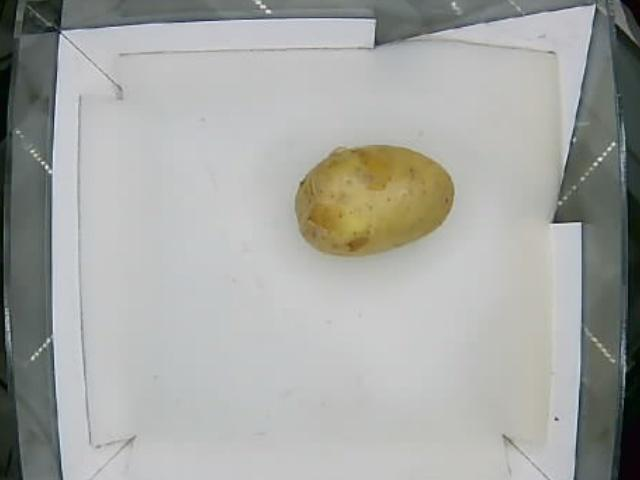Potato: (292, 142, 455, 260)
